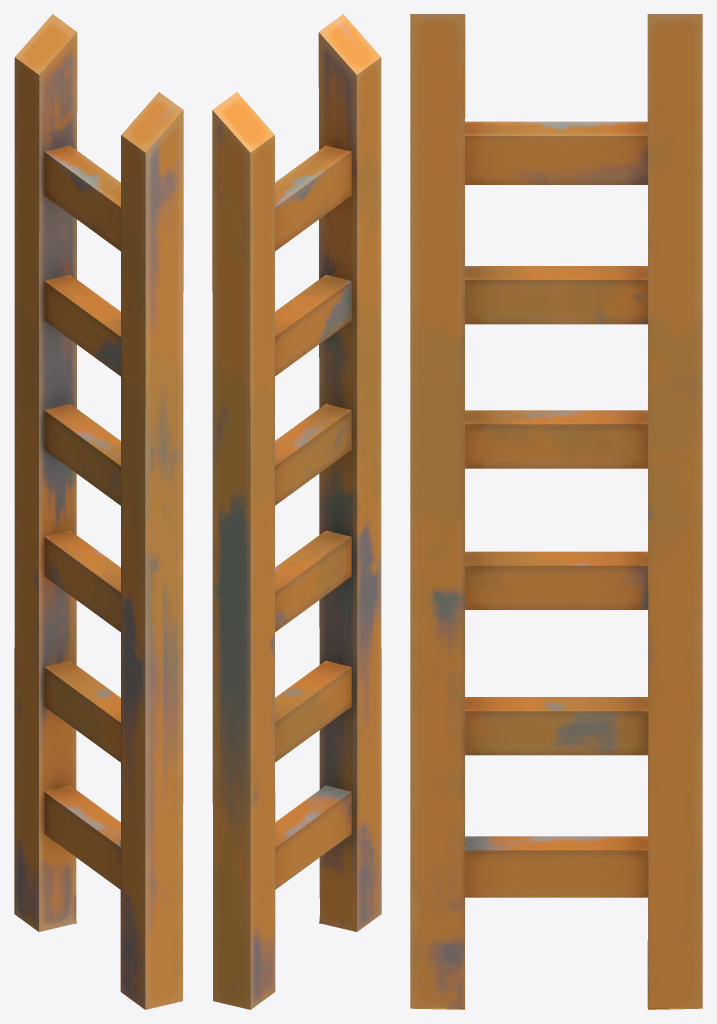
File: Prfb_Stairs.fbx
3 renders of one model, left to right at view 1: azimuth 30°, elevation 25°; view 2: azimuth 150°, elevation 25°; view 3: azimuth 270°, elevation 25°, orthographic. The views are drawn at different scales.
Parts seen in each view (by area): view 1: OutDoor; view 2: OutDoor; view 3: OutDoor.
Part boxes in pixels (x1,y1,x2,y2): OutDoor: [14, 14, 183, 1009]; OutDoor: [212, 14, 381, 1009]; OutDoor: [410, 14, 702, 1009].
Bounding box in the file's own units: 0.1418 × 3.16 × 0.8412.
1 material, 1 textured.
